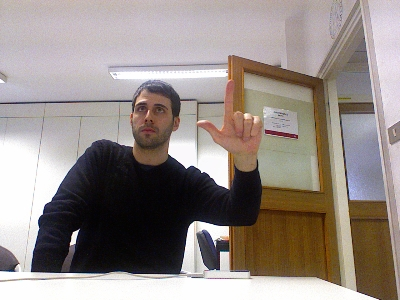枪: (194, 78, 262, 156)
